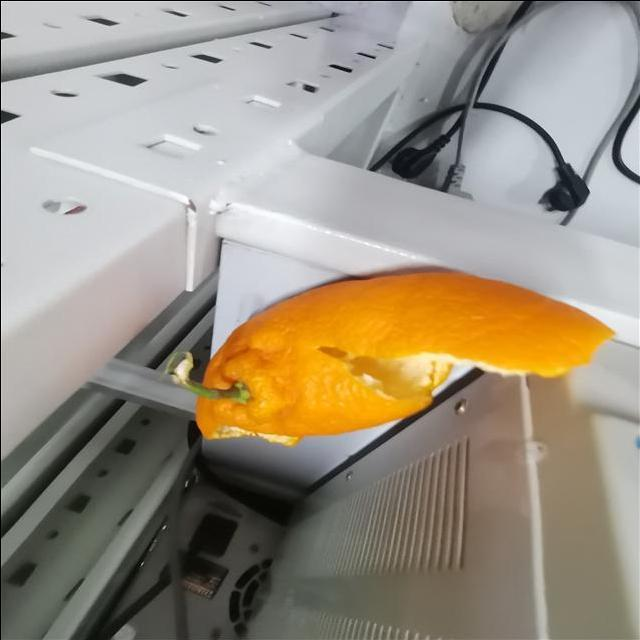orange peel: (194, 264, 616, 448)
